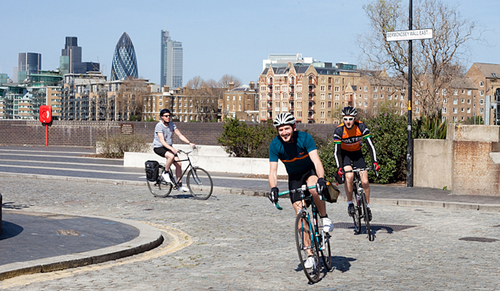bikerider: (247, 106, 339, 281), (324, 95, 385, 246), (137, 107, 214, 211)
